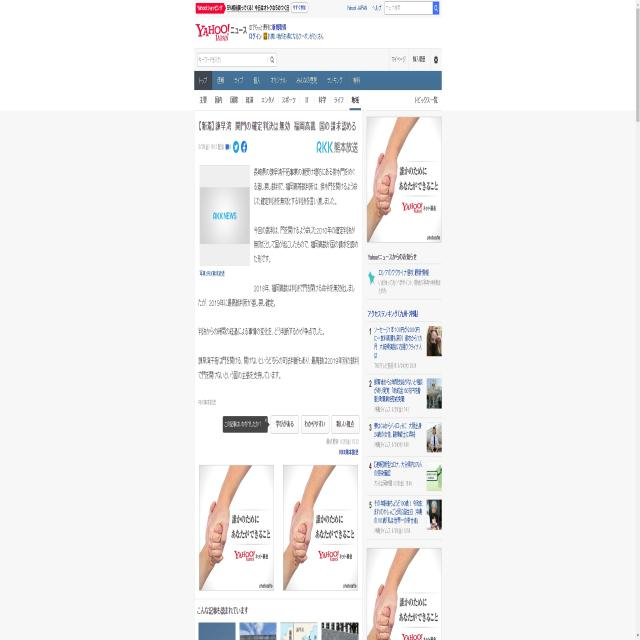search: (197, 50, 277, 68)
tab-bar: (195, 89, 362, 111), (191, 70, 363, 91)
